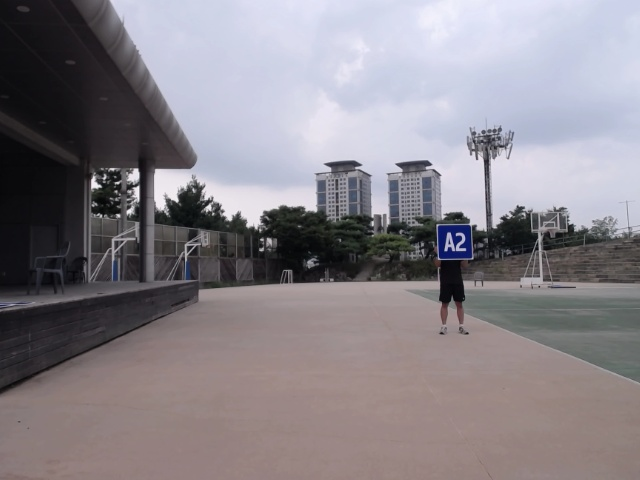delivery_a2: (437, 224, 473, 260)
